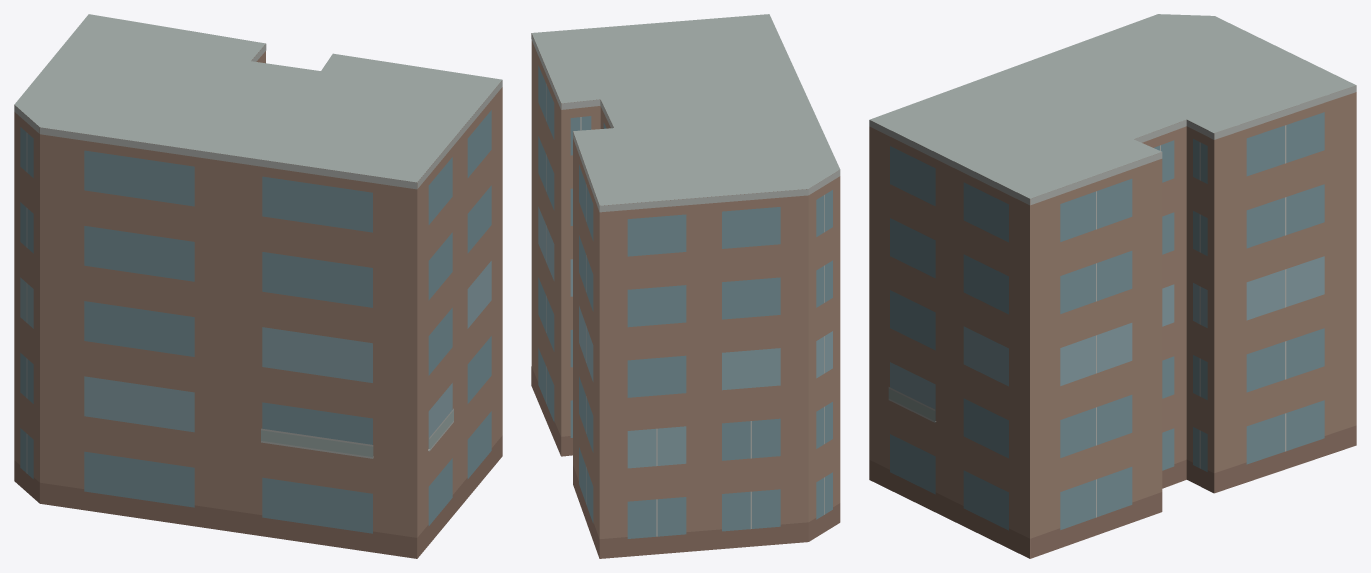
Rendered from survey-upis-32849966.glb.
3 renders of one model, left to right at view 1: azimuth 30°, elevation 25°; view 2: azimuth 150°, elevation 25°; view 3: azimuth 270°, elevation 25°, orthographic. The views are drawn at different scales.
Parts seen in each view (by area): view 1: survey-upis-32849966.tmp; view 2: survey-upis-32849966.tmp; view 3: survey-upis-32849966.tmp.
Part boxes in pixels (x1,y1,x2,y2): survey-upis-32849966.tmp: (14,14,502,558); survey-upis-32849966.tmp: (531,14,840,558); survey-upis-32849966.tmp: (869,14,1356,558).
Size of the model in its own units: 14.54 by 13.2 by 16.2.
